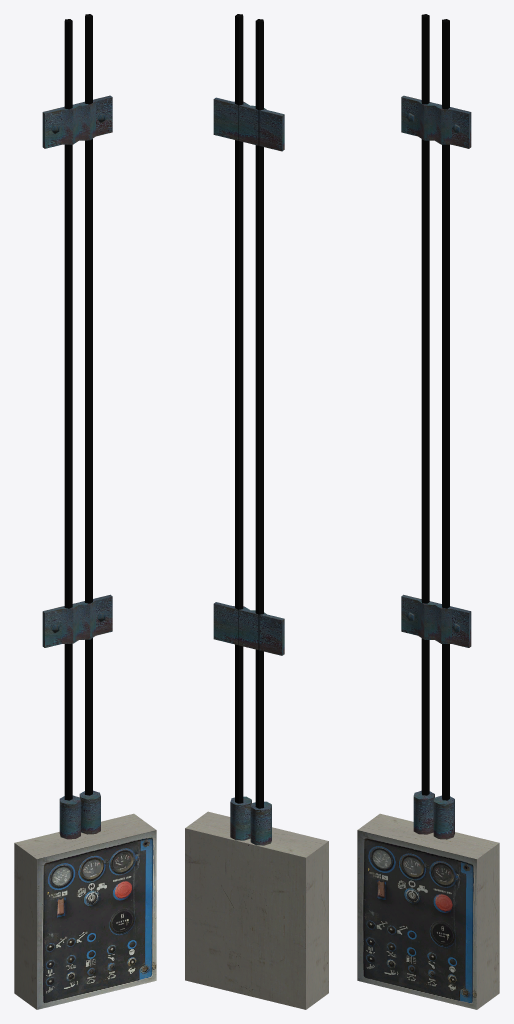
The model's file is electric box.fbx.
3 views of the same model, side by side, from view 1: azimuth 30°, elevation 25°; view 2: azimuth 150°, elevation 25°; view 3: azimuth 330°, elevation 25° (orthographic).
Parts seen in each view (by area): view 1: Mesh Object; view 2: Mesh Object; view 3: Mesh Object.
Part boxes in pixels (x1,y1,x2,y2): Mesh Object: (14,14,156,1009); Mesh Object: (185,14,328,1009); Mesh Object: (357,14,499,1009).
Bounding box in the file's own units: 0.7856 × 6.05 × 0.2563.
